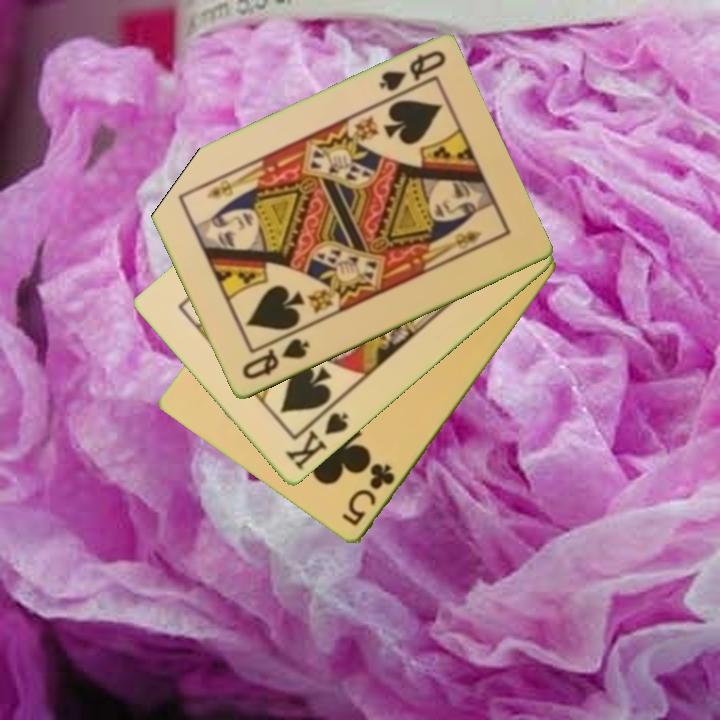5c: (338, 460, 398, 530)
Ks: (281, 401, 352, 474)
Qs: (375, 47, 449, 104), (238, 335, 312, 383)
